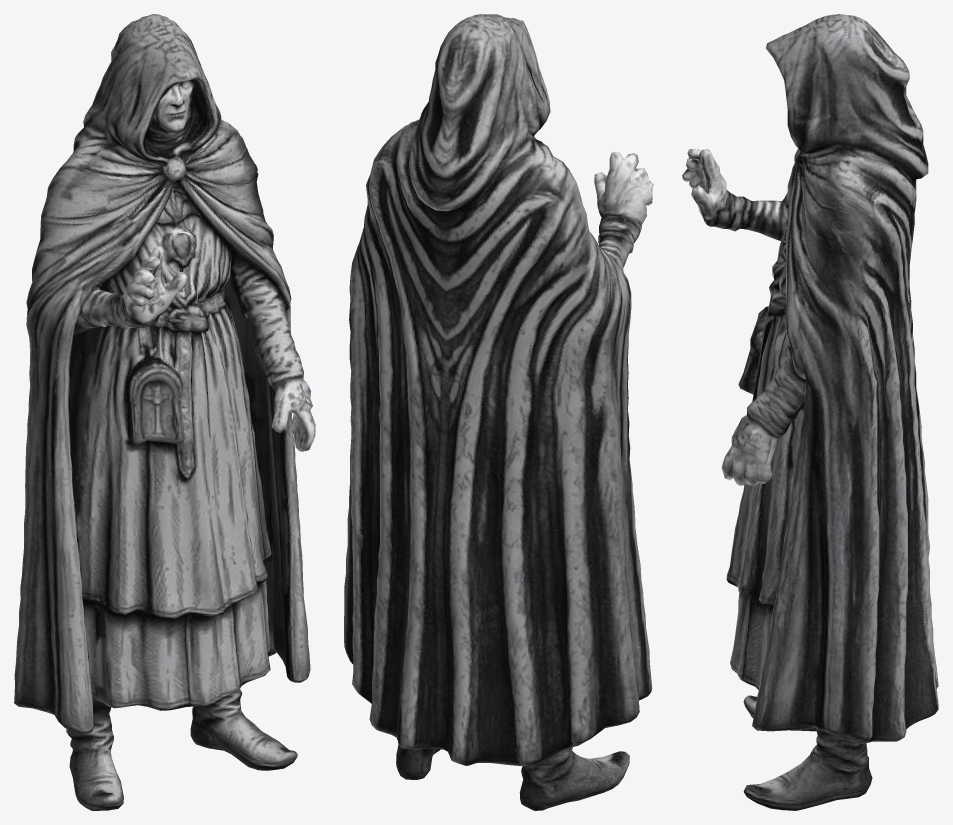
Rendered from Clergy_Healer.glb.
3 renders of one model, left to right at view 1: azimuth 30°, elevation 25°; view 2: azimuth 150°, elevation 25°; view 3: azimuth 270°, elevation 25°, orthographic. The views are drawn at different scales.
Size of the model in its own units: 0.7593 by 1.91 by 0.591.
1 material, 1 textured.
